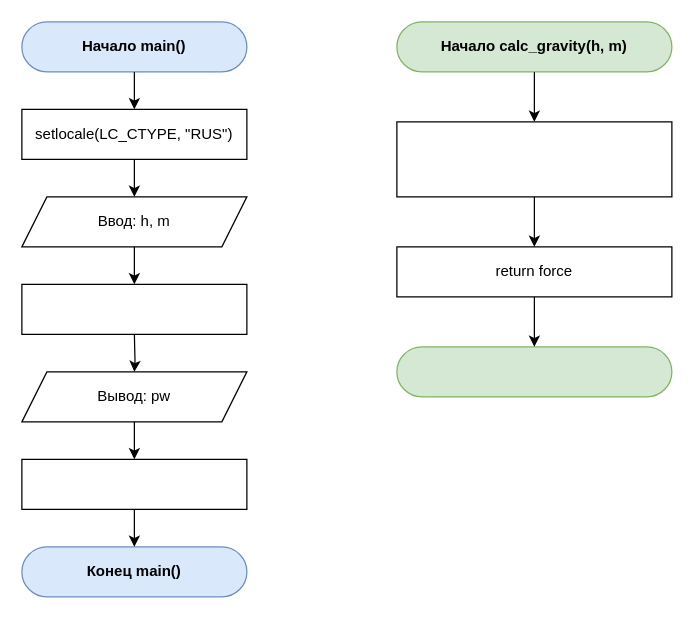
Image size: 694x619. Some labels were removed from this diagram. Each missing label, with the box of its shape:
g = GM / ((R + h) * (R + h)) force = m * g: (396, 121, 672, 197)
pw = calc_gravity(h, m): (21, 283, 247, 334)
return 0: (21, 458, 247, 509)
Конец calc_gravity: (396, 346, 672, 397)
